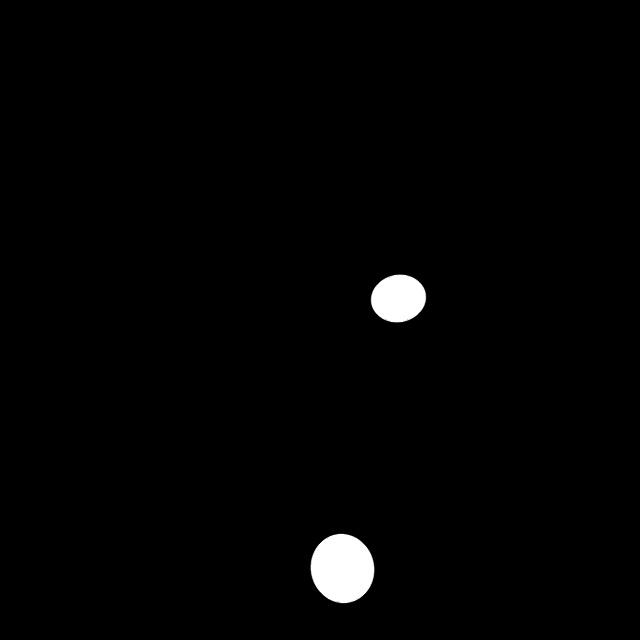Circle: (302, 522, 384, 613), (364, 264, 434, 334)
